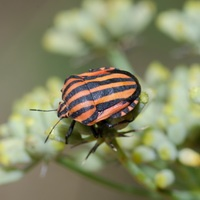insect: (57, 67, 140, 127)
